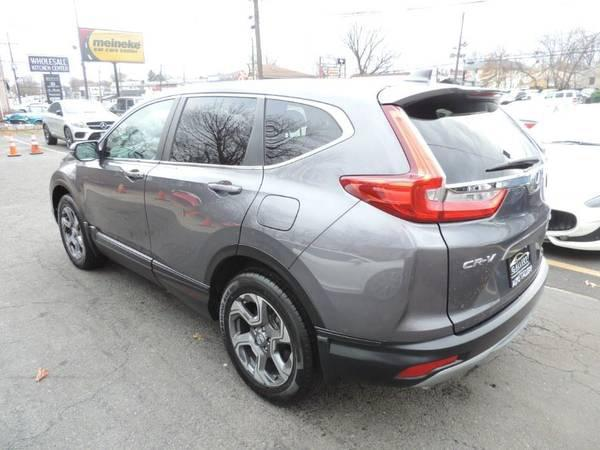Front_Left_Door: (85, 160, 162, 280)
Front_Left_Window: (87, 98, 180, 163)
Left_Taillight: (338, 103, 504, 224)
Rear_Bumper: (284, 199, 550, 383)
Rear_Fender: (236, 93, 359, 272)
Rear_Left_Door: (146, 165, 261, 316)
Rear_Left_Window: (159, 96, 264, 171)
Rear_Windshield: (404, 95, 543, 189)
Roof: (96, 76, 503, 175)
Tailgate: (436, 161, 550, 329)
Wheel: (216, 268, 316, 405), (55, 196, 93, 272)
